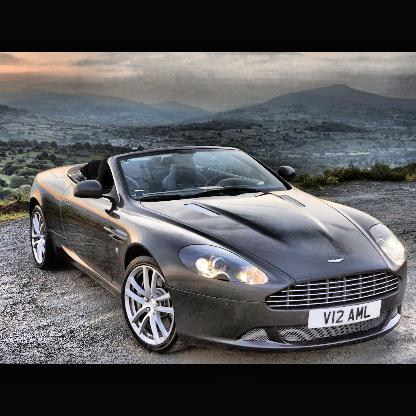Aston Martin V8 Vantage Convertible 2012: (28, 145, 409, 355)
